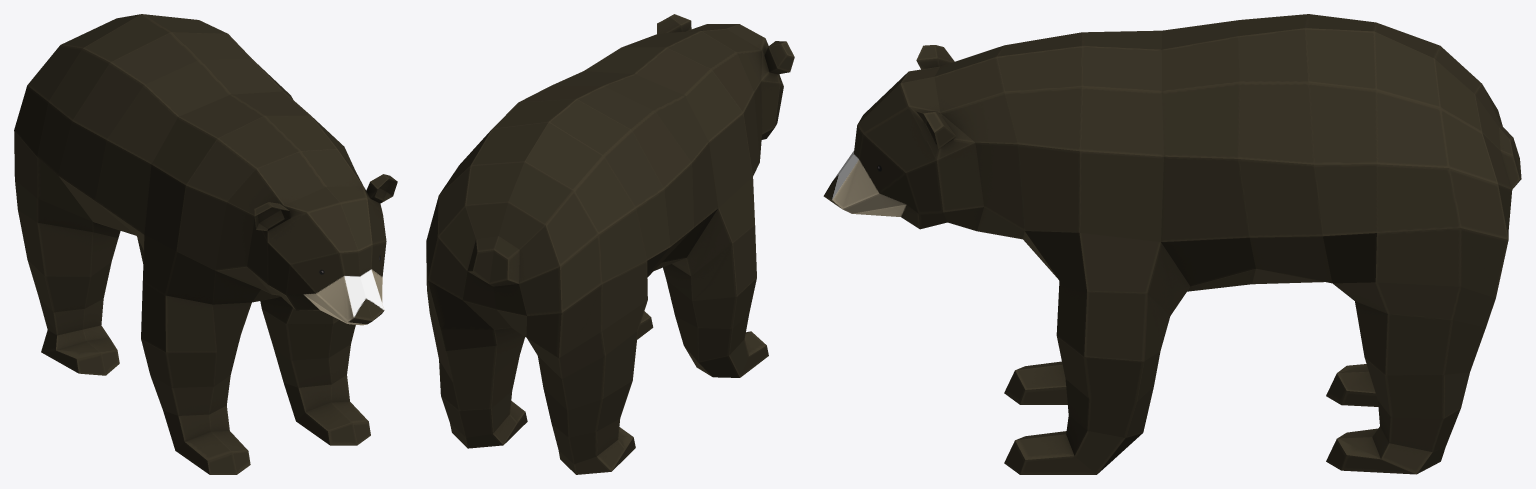
File: BlackBear.obj
The picture shows the model from 3 angles, left to right: view 1: azimuth 30°, elevation 25°; view 2: azimuth 150°, elevation 25°; view 3: azimuth 270°, elevation 25°; orthographic projection. The views are drawn at different scales.
Visible parts, largest first — view 1: BlackBear_mesh; view 2: BlackBear_mesh; view 3: BlackBear_mesh.
Boxes of the visible parts, box(x1,y1,x2,y2) form: BlackBear_mesh: box(14, 14, 397, 474); BlackBear_mesh: box(426, 14, 794, 474); BlackBear_mesh: box(823, 14, 1521, 474).
Size of the model in its own units: 6.68 by 10.22 by 16.13.
Materials: 1 (1 with a texture image).
